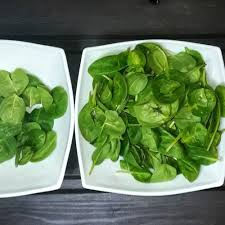spinach: (136, 60, 215, 173), (4, 70, 51, 154), (89, 59, 129, 136)
